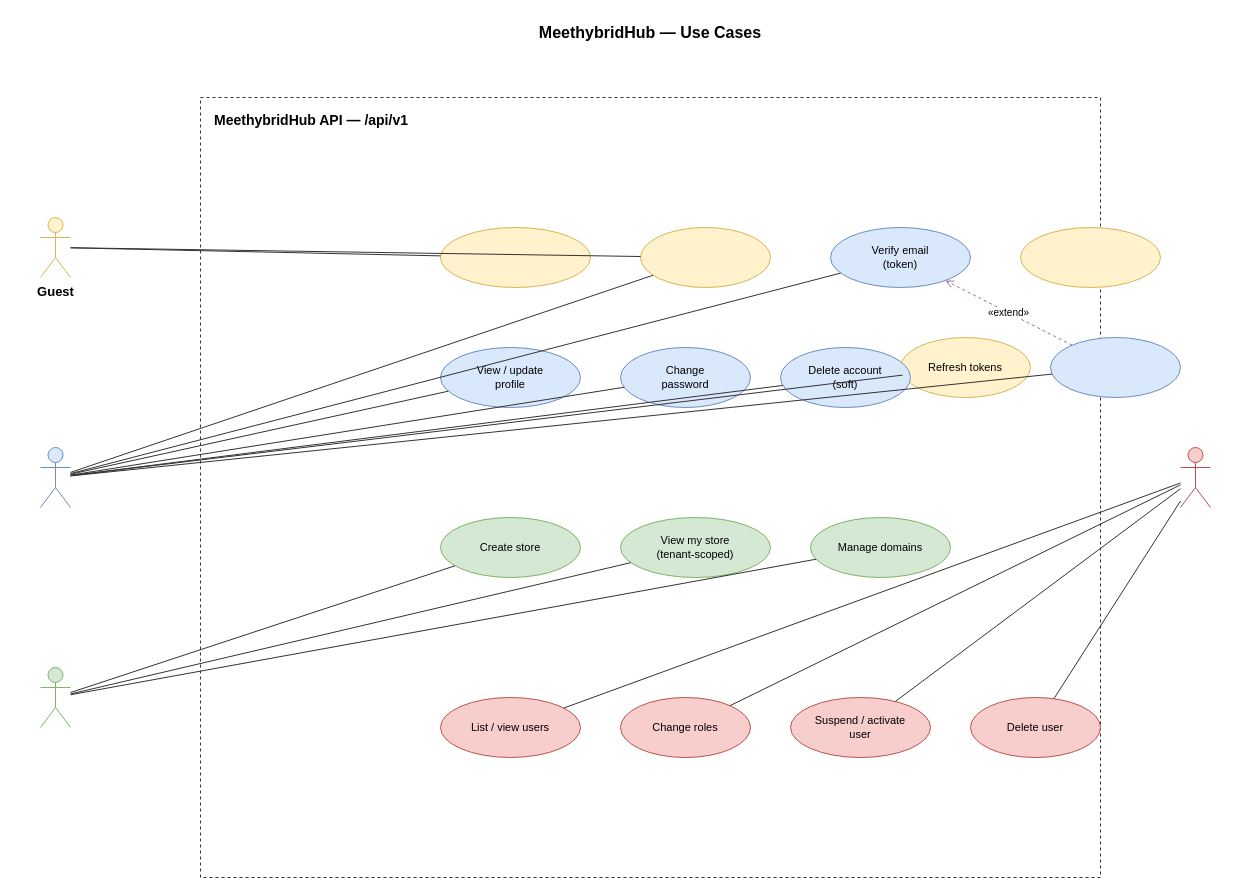
This 1233x895 diagram has some shape labels left out. The shapes that lost their labels are listed below. From the top down, each one's centre as x and y in pixels, then its label:
At point 515,257: "Register account".
At point 705,257: "Login".
At point 1090,257: "Reset password".
At point 1115,367: "Resend verification".
At point 55,477: "User (Customer)".
At point 1195,477: "Admin".
At point 55,697: "Store Owner".
